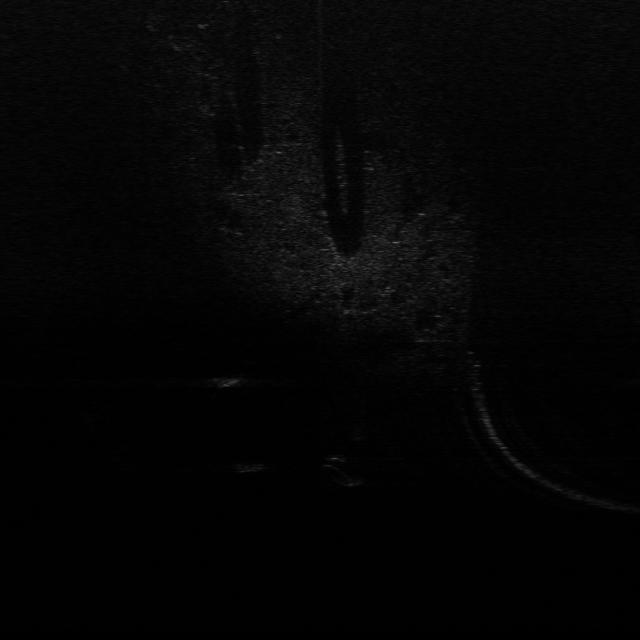cube: (230, 460, 268, 473)
square cage: (208, 375, 247, 388)
tyre: (320, 453, 368, 489)
